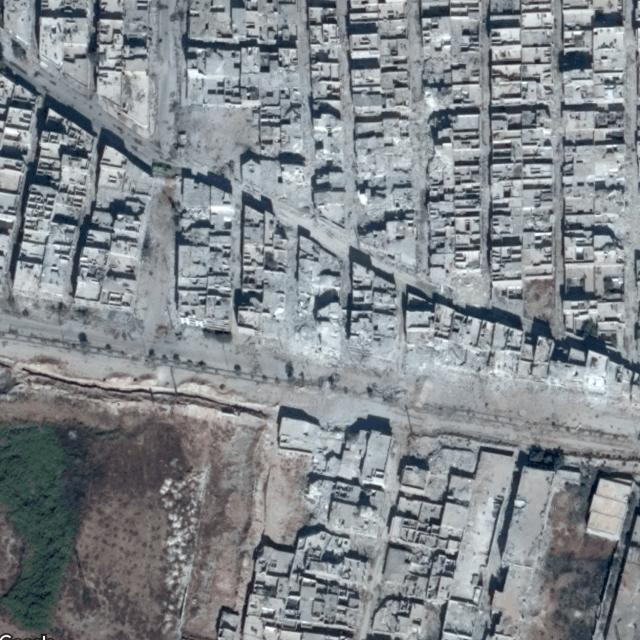damaged_building: (256, 272, 492, 375), (370, 430, 481, 639), (354, 81, 457, 227)
